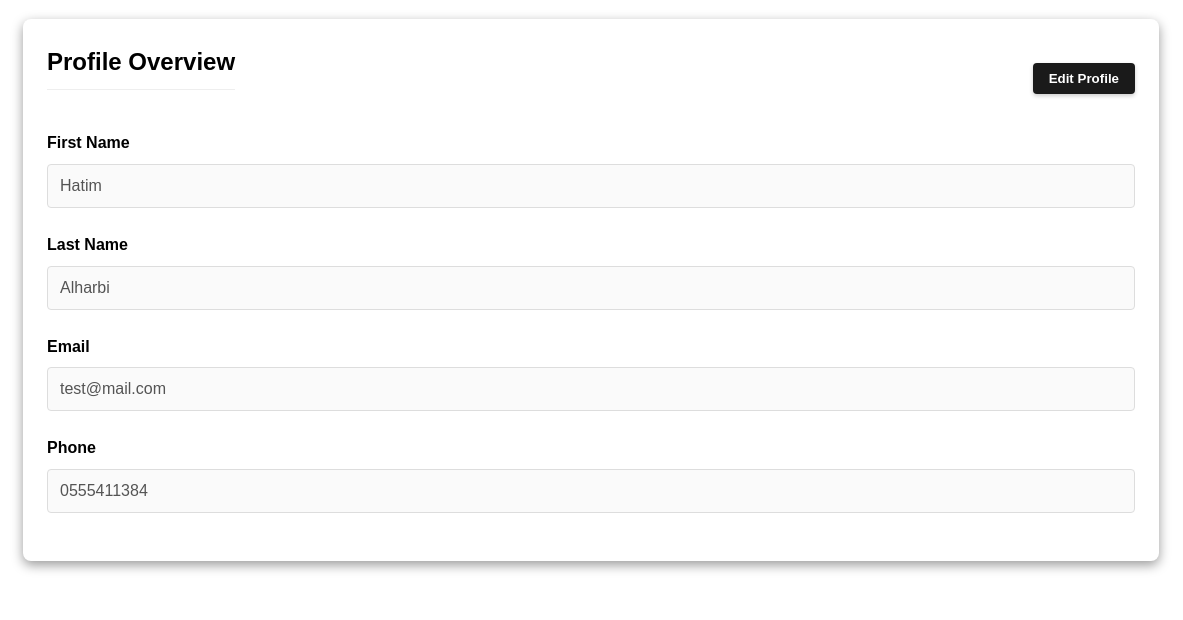
Test case: renders profile overview and toggles edit mode
Expected: the field labelled "First Name" is disabled, [47,164,1135,208]
Click the button "Edit Profile": x=1084, y=79 [1033,63,1135,94]
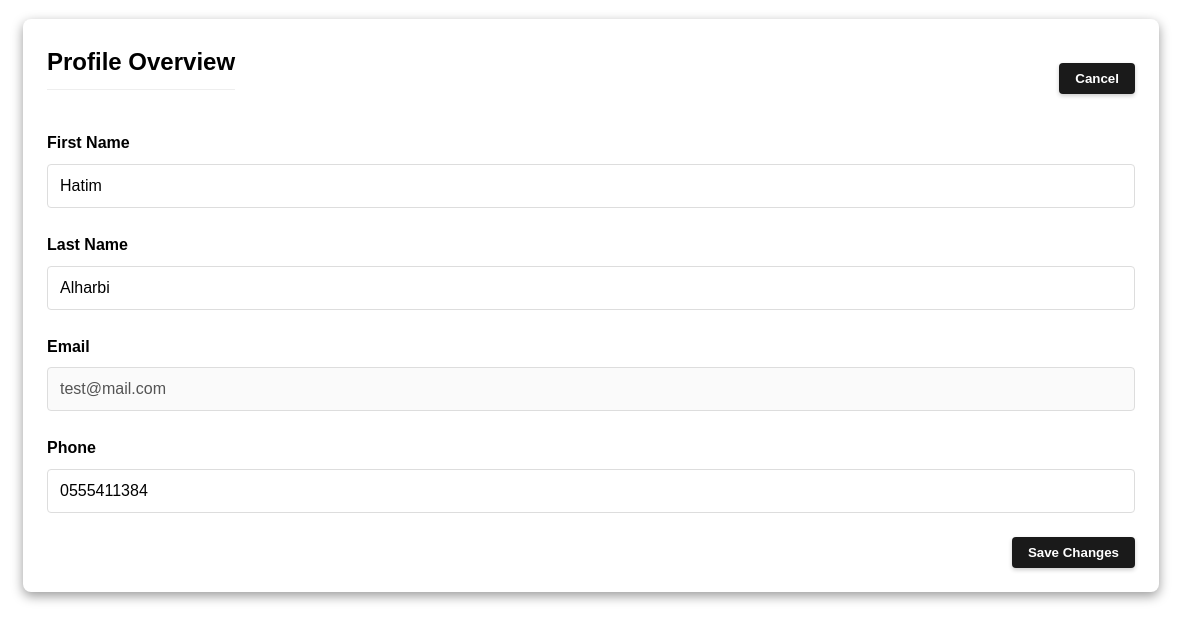
Expected: the field labelled "First Name" is enabled, [47,164,1135,208]
